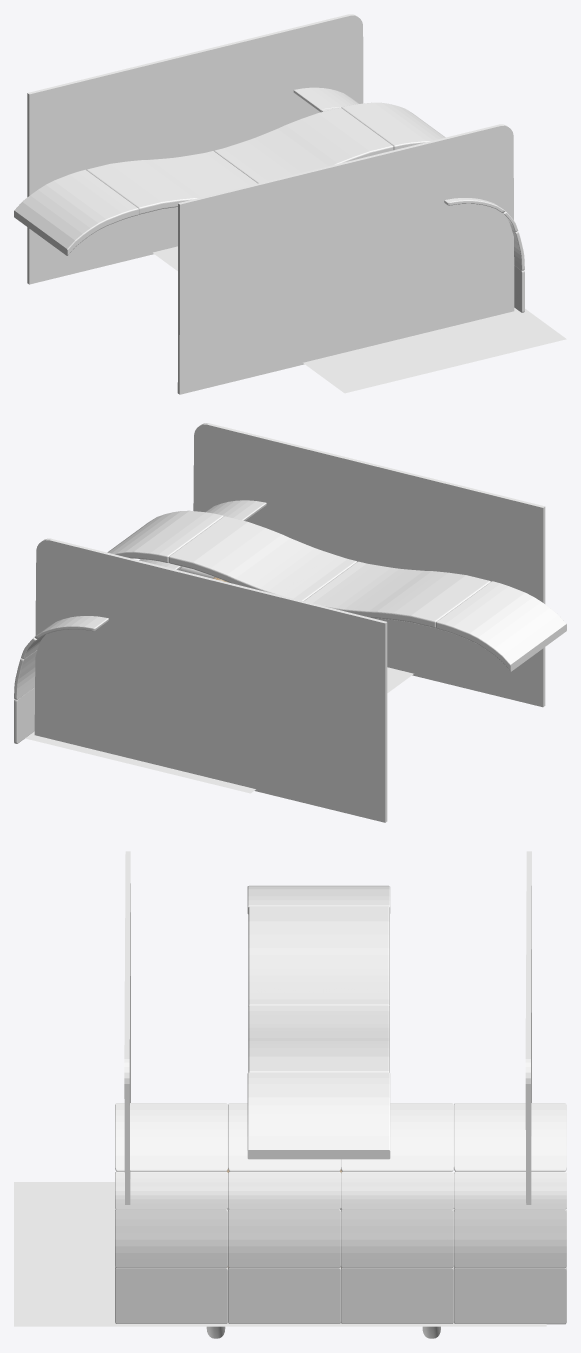
File: seat.glb
3 views of the same model, one above another, from view 1: azimuth 30°, elevation 25°; view 2: azimuth 150°, elevation 25°; view 3: azimuth 270°, elevation 25° (orthographic). The views are drawn at different scales.
Parts seen in each view (by area): view 1: Plane; view 2: Plane; view 3: Plane.
Part boxes in pixels (bbox=[...]): Plane: bbox=[14, 14, 566, 394]; Plane: bbox=[14, 423, 566, 822]; Plane: bbox=[14, 851, 566, 1338].
Bounding box in the file's own units: 7.85 × 3.66 × 6.85.
Materials: 10 (2 with a texture image).
